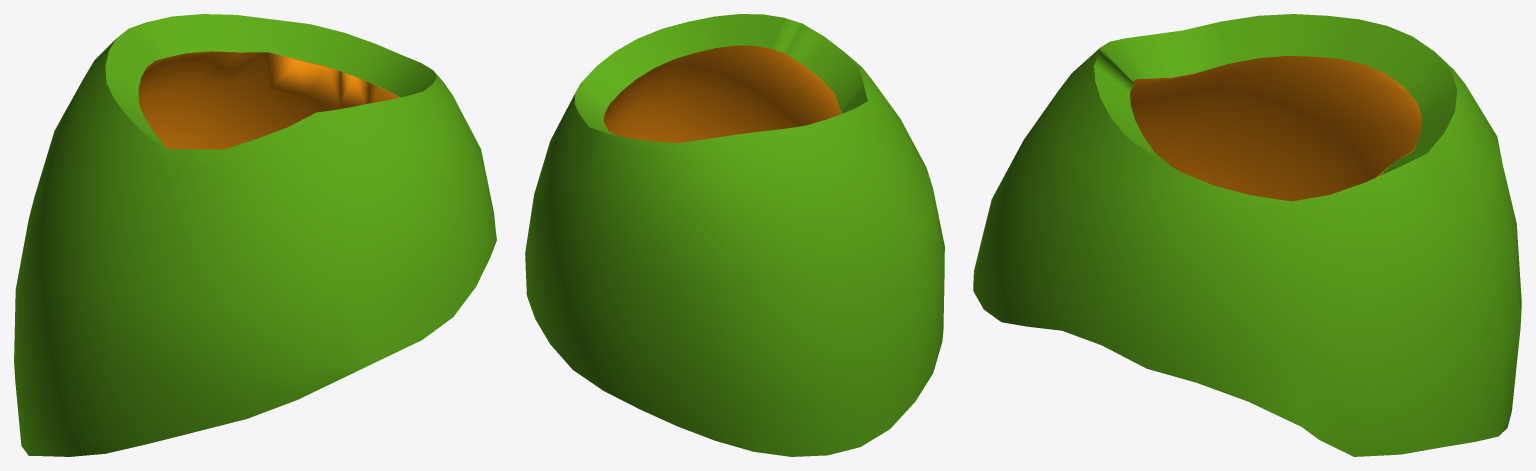
File: GoodFruitBroken02.FBX
The picture shows the model from 3 angles, left to right: view 1: azimuth 30°, elevation 25°; view 2: azimuth 150°, elevation 25°; view 3: azimuth 270°, elevation 25°; orthographic projection. The views are drawn at different scales.
Visible parts, largest first — view 1: GoodFruitBroken02; view 2: GoodFruitBroken02; view 3: GoodFruitBroken02.
Part boxes in pixels (bbox=[...]): GoodFruitBroken02: bbox=[14, 14, 496, 456]; GoodFruitBroken02: bbox=[525, 14, 944, 456]; GoodFruitBroken02: bbox=[973, 14, 1521, 456].
Bounding box in the file's own units: 8.71 × 7.24 × 8.66.
